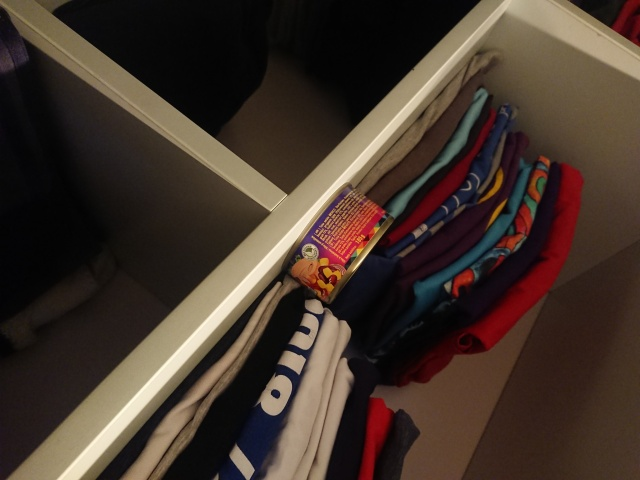Giana Tuna Salad Mexico 185g: (280, 180, 397, 307)
